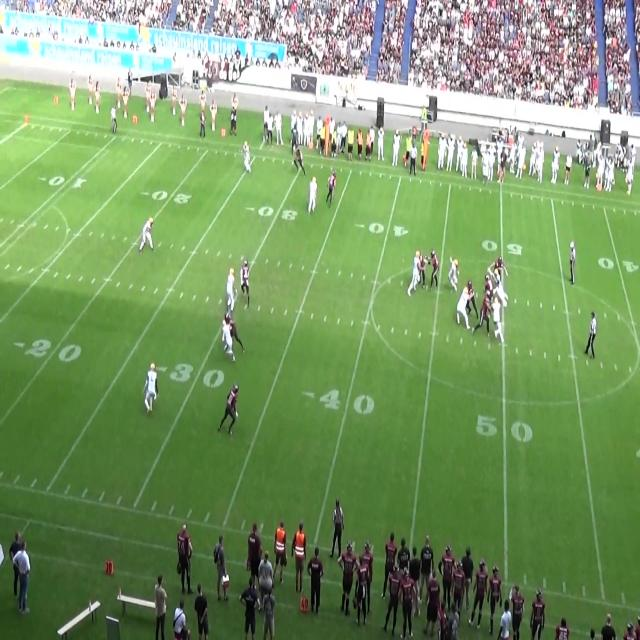2: (25, 336, 56, 361)
3: (170, 362, 197, 386)
4: (319, 384, 343, 413)
5: (475, 410, 498, 439)
american-football-players: (220, 386, 242, 437), (488, 267, 509, 307), (454, 286, 472, 332), (227, 313, 246, 356), (225, 265, 239, 318), (238, 258, 252, 308), (146, 363, 159, 413), (408, 252, 422, 298), (221, 319, 235, 363), (479, 286, 491, 336), (139, 216, 155, 253), (465, 281, 478, 320), (492, 298, 504, 340), (491, 254, 506, 287), (447, 256, 460, 293), (417, 248, 427, 291), (306, 176, 317, 214), (326, 171, 337, 209), (293, 143, 305, 177), (430, 249, 440, 289), (243, 141, 253, 174), (484, 271, 494, 299)
